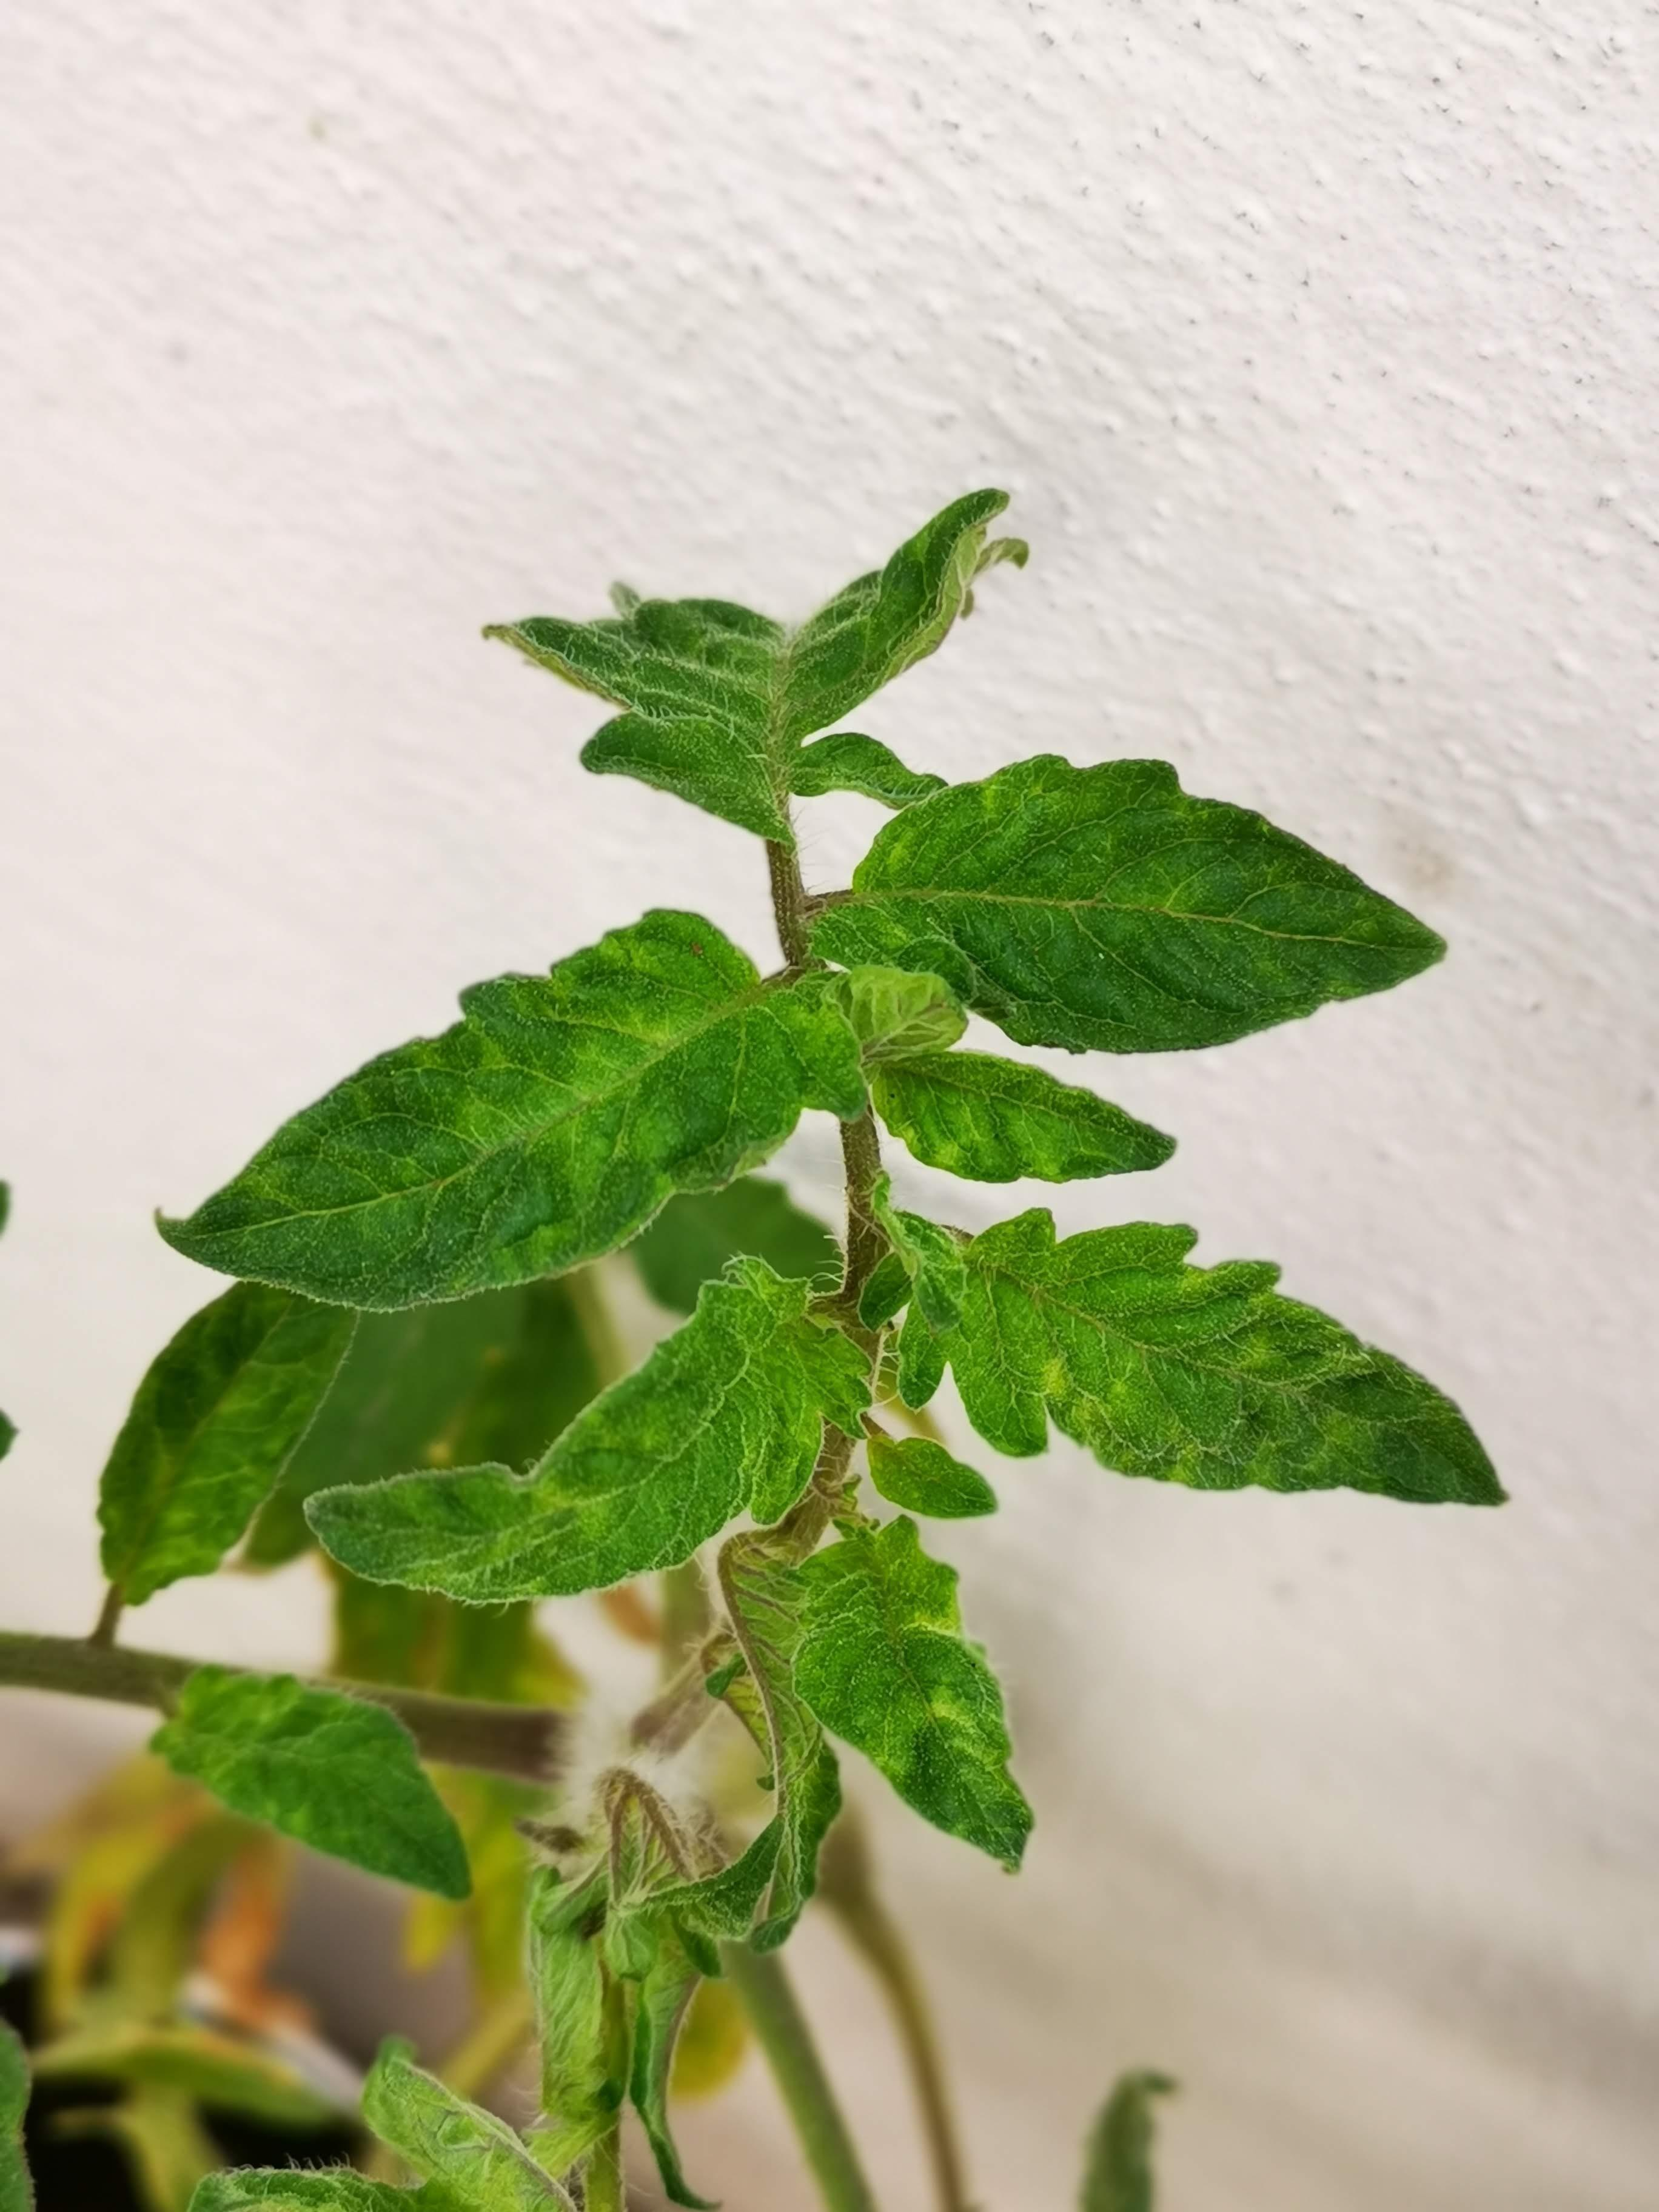Hoja rugoso: (155, 906, 871, 1310), (857, 1170, 1507, 1505), (301, 1258, 873, 1602), (810, 752, 1446, 1055), (481, 486, 1009, 846), (777, 1514, 1033, 1876), (528, 1771, 720, 2212), (98, 1284, 357, 1604), (153, 1665, 471, 1900), (875, 1049, 1176, 1183), (704, 1527, 821, 1811), (866, 1433, 999, 1517)
Pedunculo rugoso: (836, 1111, 889, 1327), (763, 834, 828, 963)
